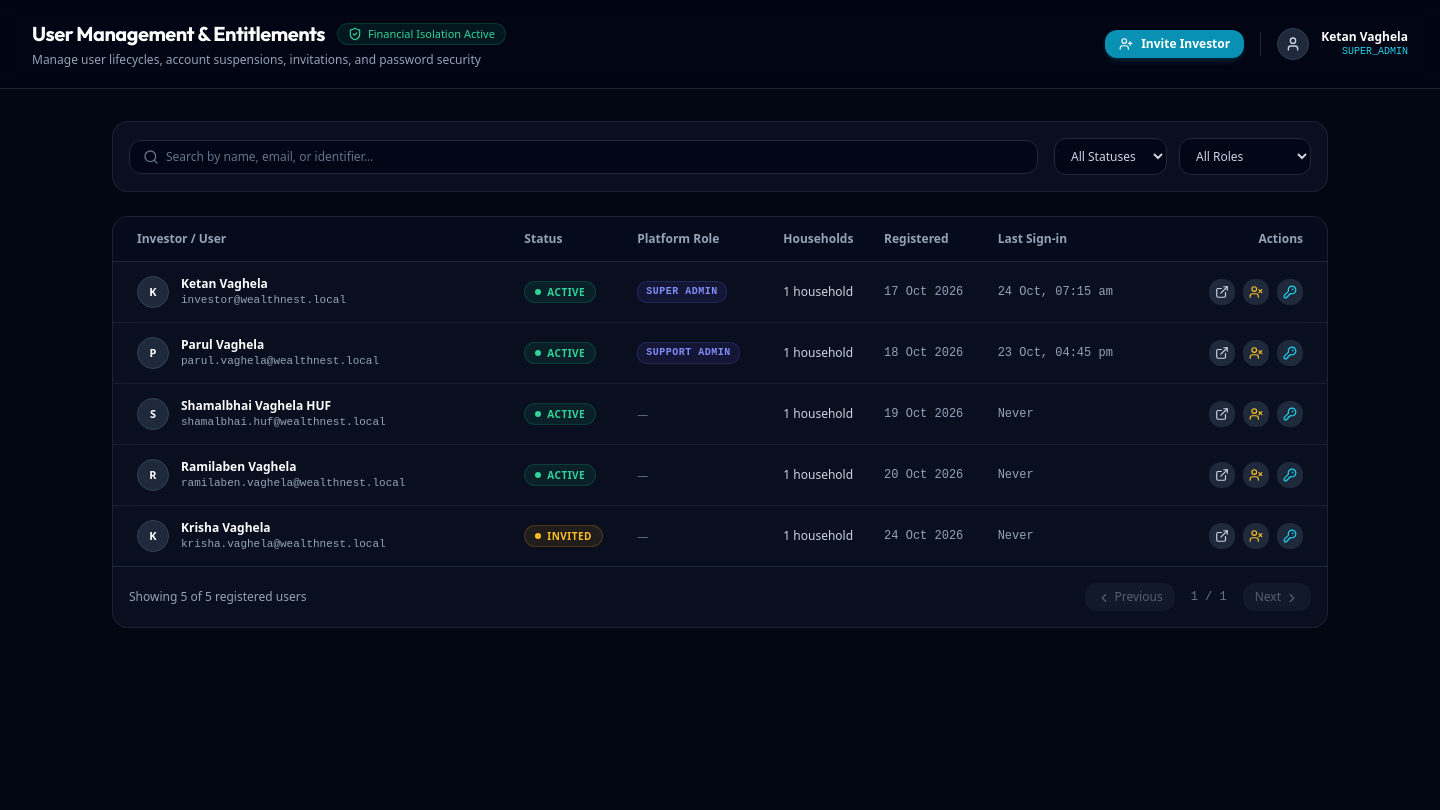
Phase 7: Complete Admin Portal, User Management & Security Verification › AdminUsersPage Component › opens status change modal requiring mandatory reason code for suspension
Expected: the link "Parul Vaghela" is shown, [181, 336, 264, 353]
Expected: the button titled "Change Status / Suspend" in the row of "investor@wealthnest.local" is shown, [1243, 279, 1269, 305]
Click the button titled "Change Status / Suspend" in the row of "Parul Vaghela" at coordinates (1256, 353), box [1243, 340, 1269, 366]
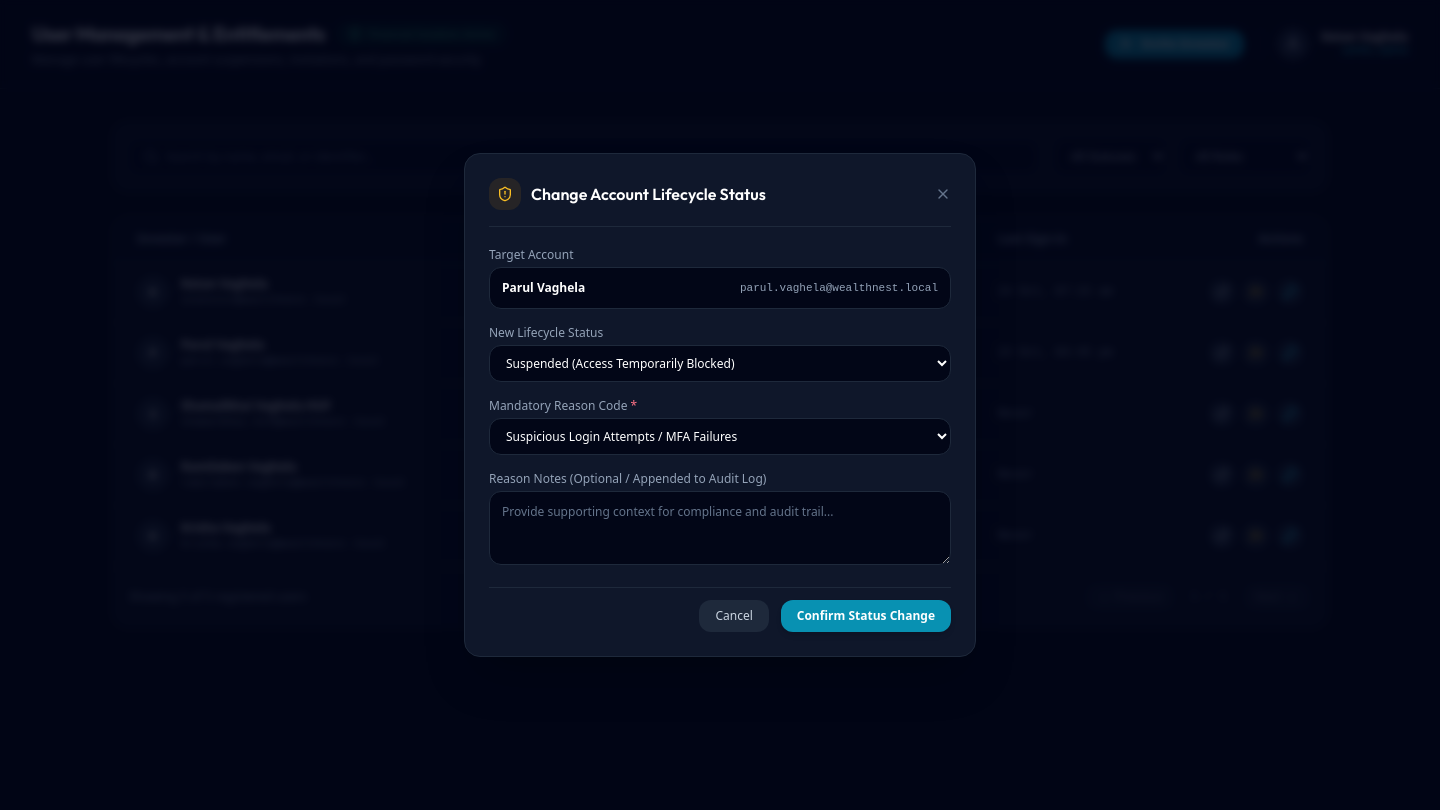
Expected: the heading "Change Account Lifecycle Status" is shown, [531, 182, 766, 206]
Expected: the text "Mandatory Reason Code *" is shown, [489, 397, 637, 414]
